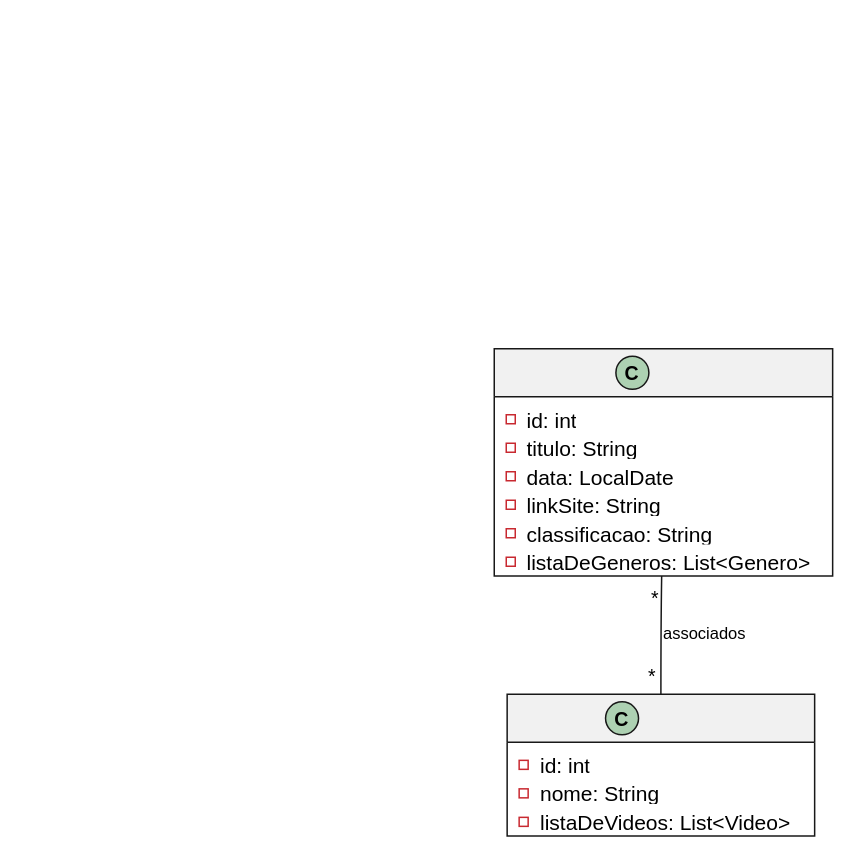
This 860x863 diagram has some shape labels left out. Here are the shapes that lost their labels. From the top down, the box of each, then its label:
(493, 347, 833, 576): Video
(506, 693, 815, 836): Genero
